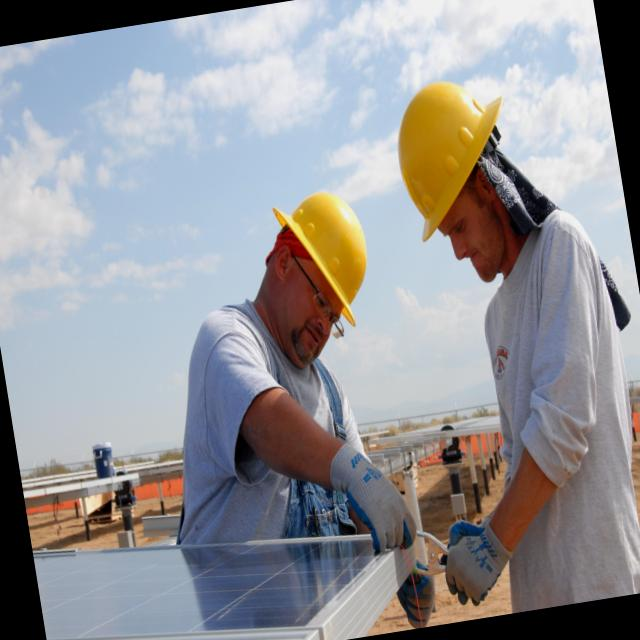helmet: (384, 64, 522, 250), (264, 178, 382, 340)
no-goggles: (409, 190, 496, 259)
no-vest: (458, 252, 640, 613), (142, 300, 368, 552)
